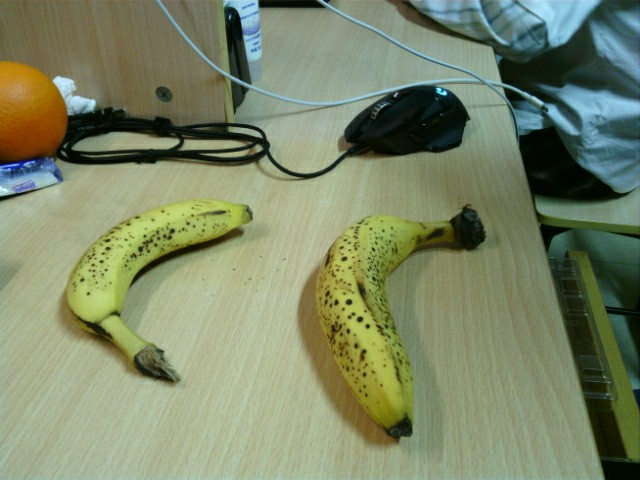normal_banana: (316, 202, 486, 437), (66, 200, 251, 384)
